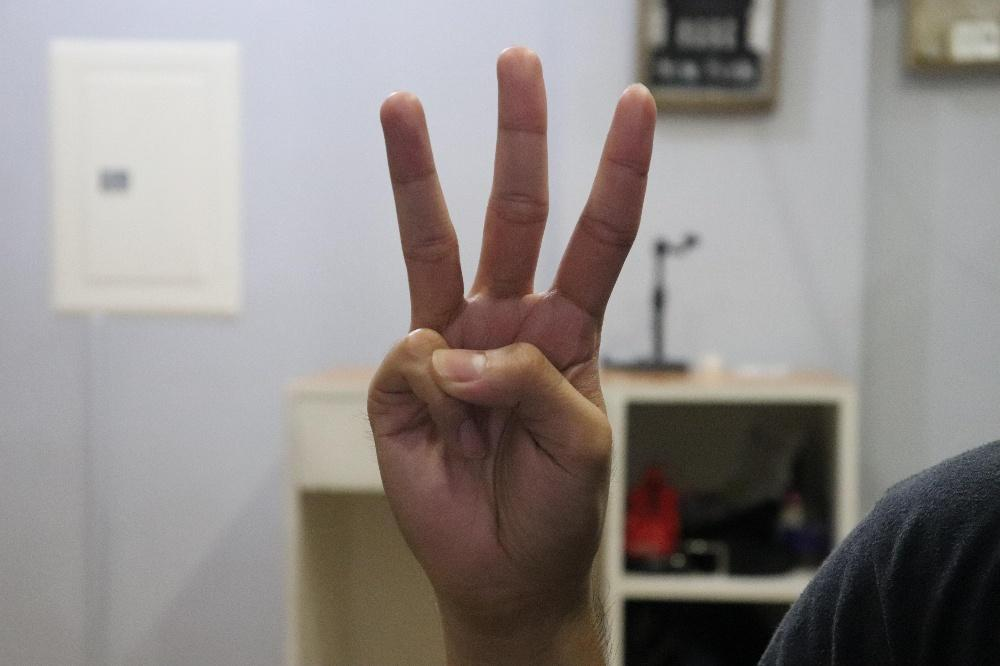w: (366, 45, 657, 609)
